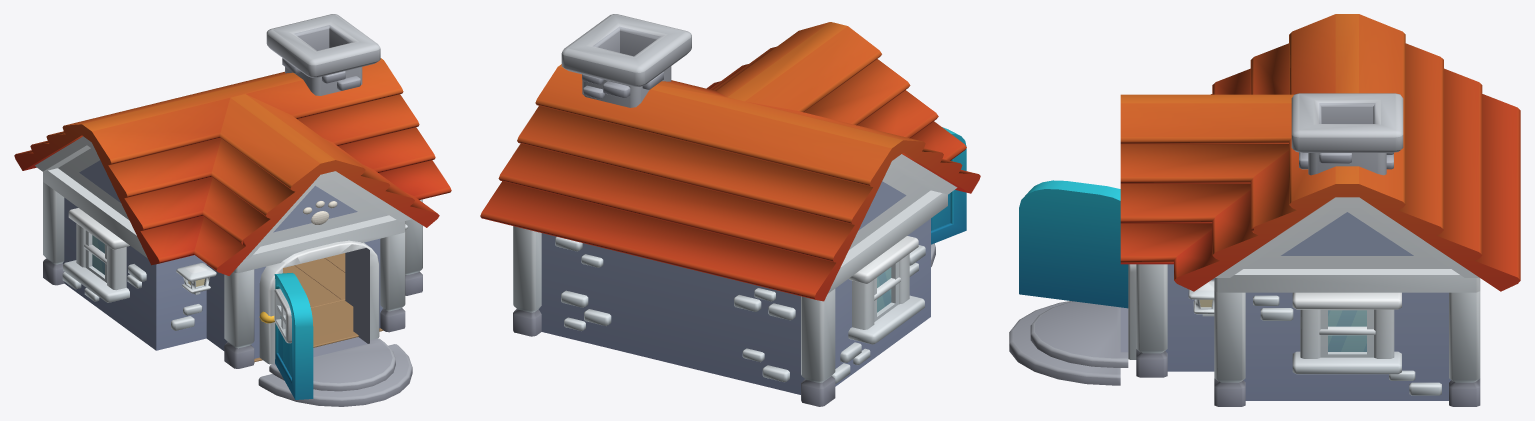
File: farmhouse-Bv-6RN_x.glb
The picture shows the model from 3 angles, left to right: view 1: azimuth 30°, elevation 25°; view 2: azimuth 150°, elevation 25°; view 3: azimuth 270°, elevation 25°; orthographic projection. The views are drawn at different scales.
Visible parts, largest first — view 1: roof_house.001, body_house, roof_original_chimney, body_open_original_door, interior_floor, interior_floor_entry; view 2: roof_house.001, body_house, roof_original_chimney, body_open_original_door; view 3: roof_house.001, body_house, body_open_original_door, roof_original_chimney.
Boxes of the visible parts, bbox=[...] form: roof_house.001: bbox=[14, 58, 451, 275]; body_house: bbox=[43, 182, 422, 406]; roof_original_chimney: bbox=[266, 14, 380, 95]; body_open_original_door: bbox=[259, 273, 313, 399]; interior_floor: bbox=[283, 253, 345, 307]; interior_floor_entry: bbox=[254, 300, 383, 362]; roof_house.001: bbox=[480, 22, 980, 301]; body_house: bbox=[513, 218, 935, 406]; roof_original_chimney: bbox=[561, 14, 691, 107]; body_open_original_door: bbox=[931, 127, 966, 244]; roof_house.001: bbox=[1120, 14, 1520, 292]; body_house: bbox=[1009, 264, 1480, 406]; body_open_original_door: bbox=[1019, 180, 1128, 308]; roof_original_chimney: bbox=[1291, 93, 1403, 175].
Bounding box in the file's own units: 401 × 309 × 502.
4 materials, 1 textured.
